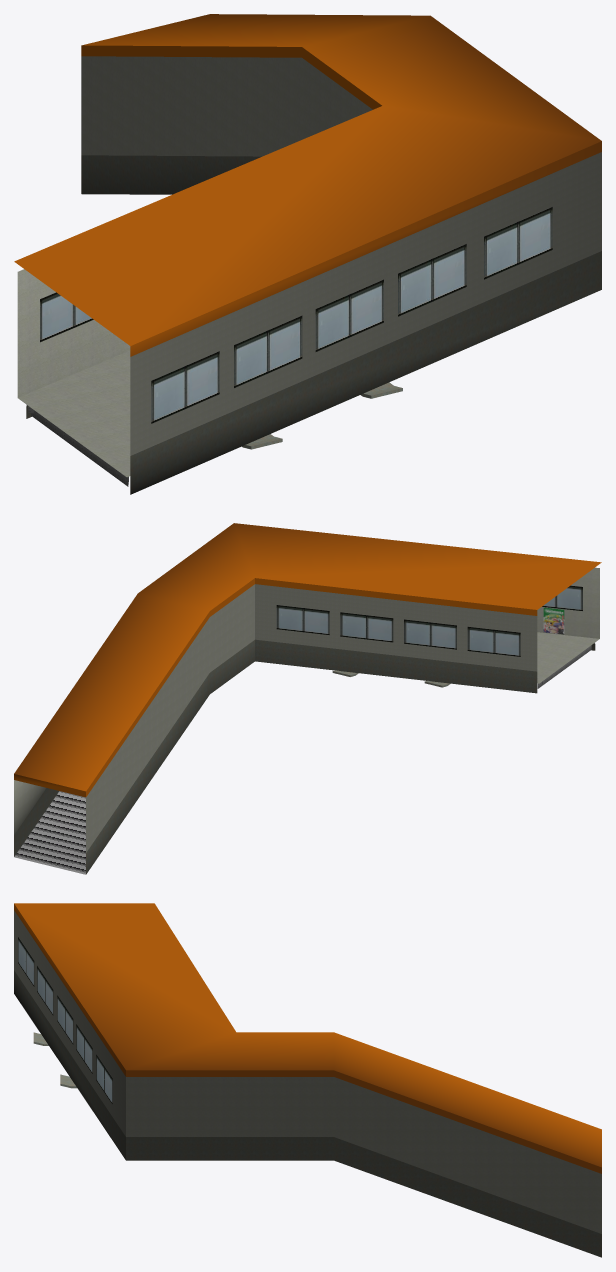
Rendered from TOHUKUJI_ST.glb.
3 views of the same model, one above another, from view 1: azimuth 30°, elevation 25°; view 2: azimuth 150°, elevation 25°; view 3: azimuth 270°, elevation 25° (orthographic). The views are drawn at different scales.
Parts seen in each view (by area): view 1: Tohukuji; view 2: Tohukuji; view 3: Tohukuji.
Boxes of the visible parts, x1,y1,x2,y2 form: Tohukuji: [14, 14, 601, 494]; Tohukuji: [14, 523, 601, 874]; Tohukuji: [14, 903, 601, 1257].
Bounding box in the file's own units: 52.19 × 27.01 × 76.81.
Materials: 8 (8 with a texture image).
